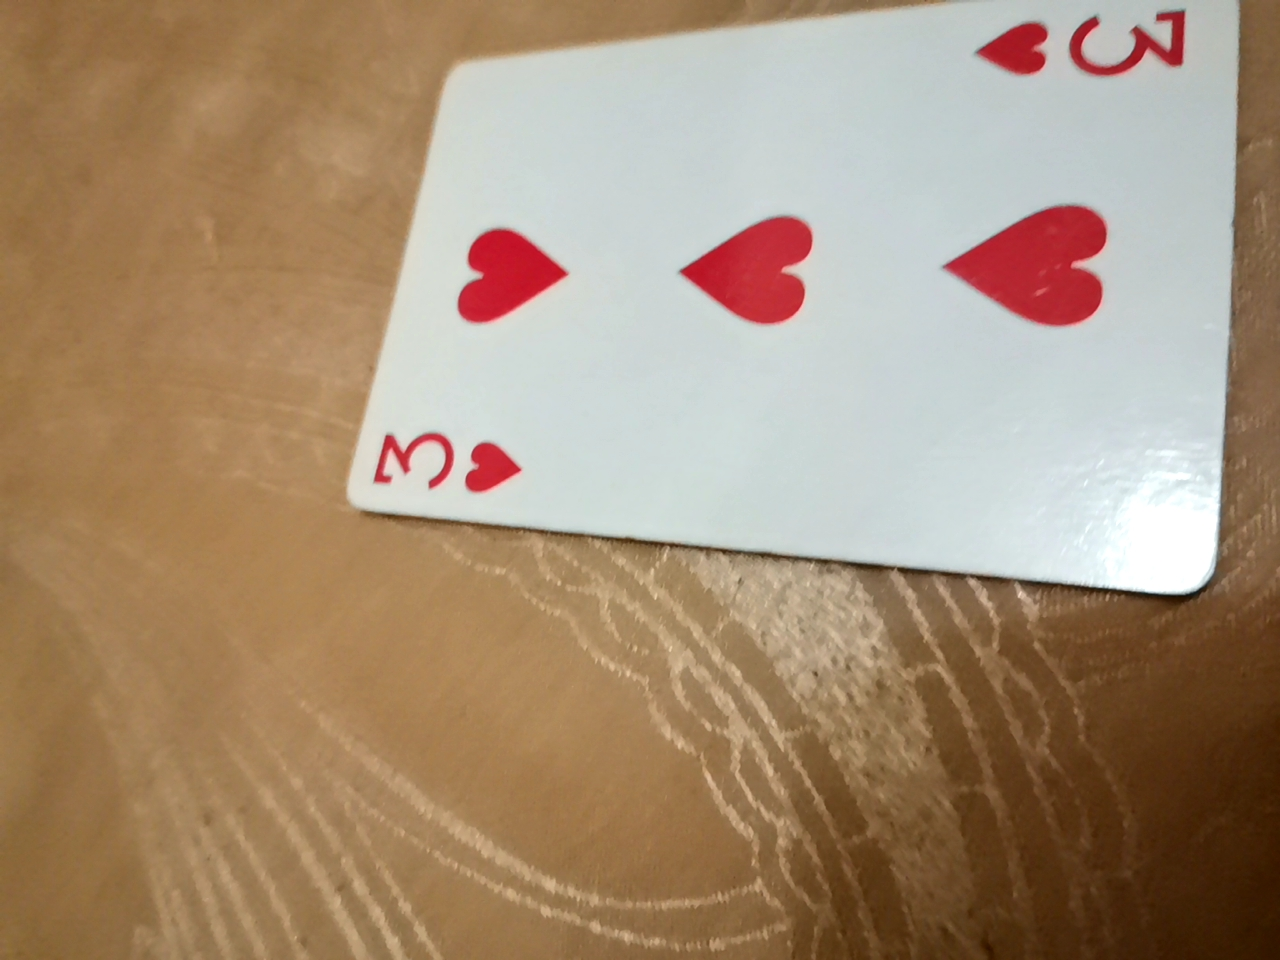hx 3: (376, 1, 1270, 552)
